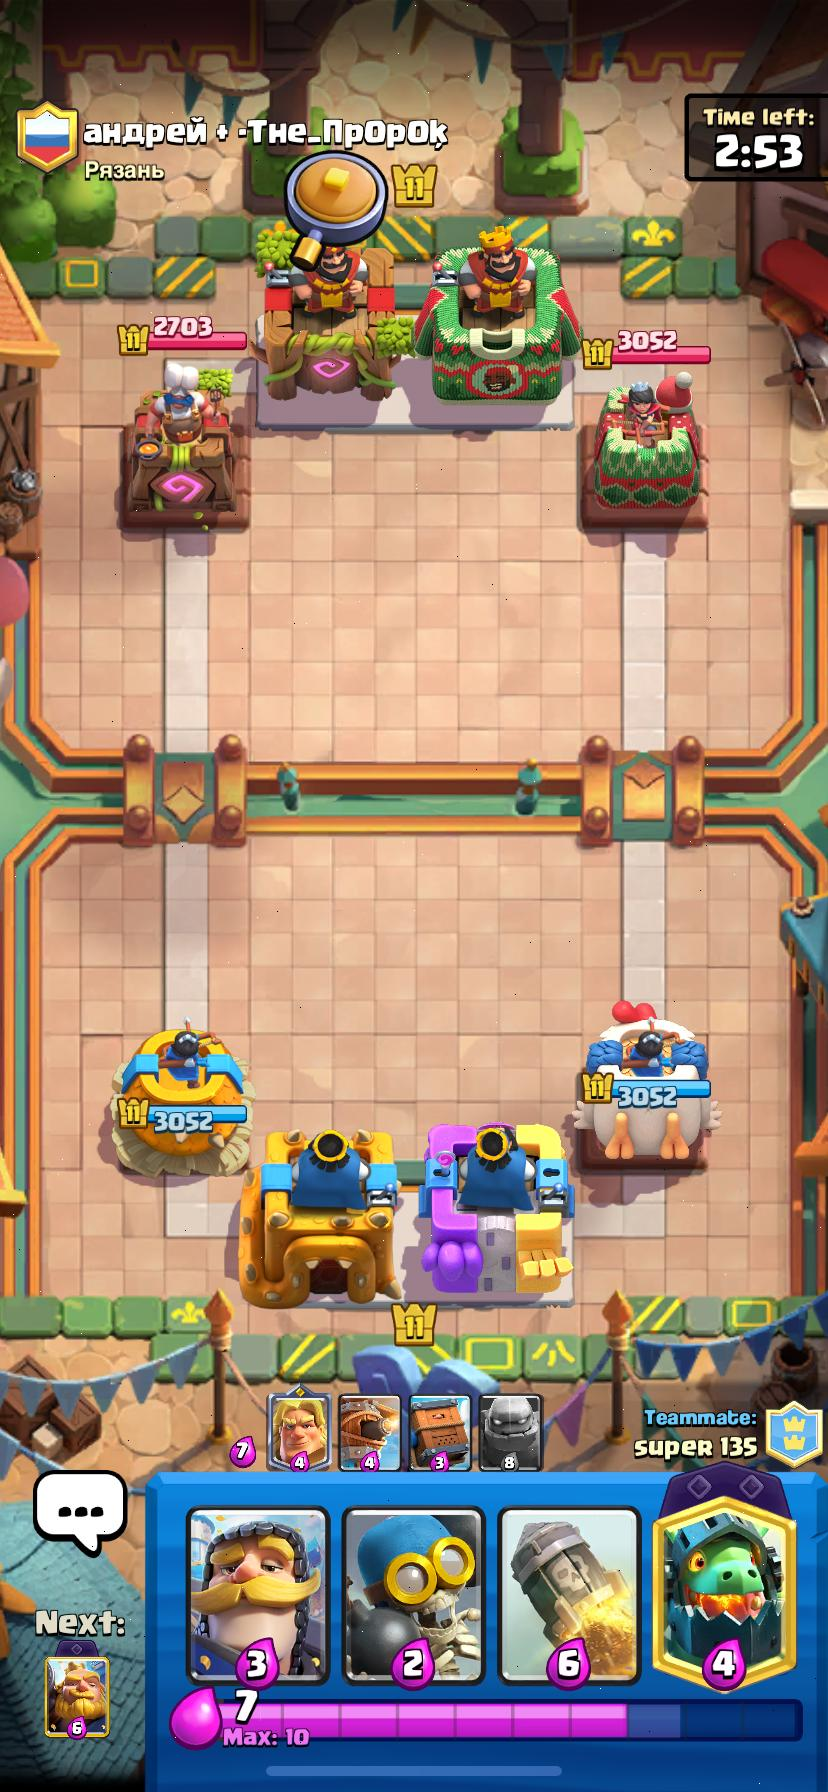EKingTower: (415, 225, 579, 402), (264, 238, 411, 401)
EnemyPanTower: (122, 367, 247, 528)
EnemyPrincessTower: (582, 371, 702, 526)
OwnKingTower: (419, 1123, 573, 1299), (261, 1129, 401, 1305)
OwnPrincessTower: (576, 1001, 710, 1167), (111, 1023, 253, 1175)
